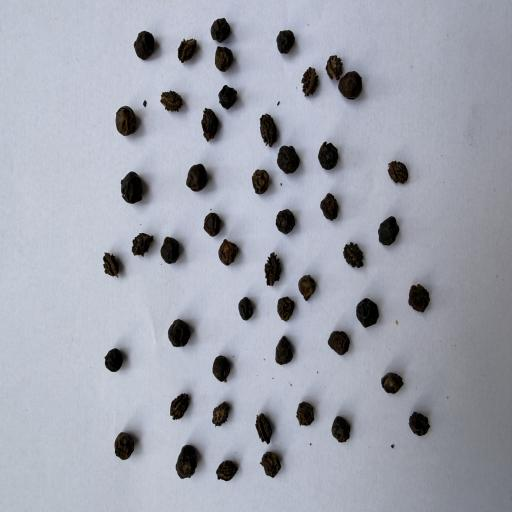Black_pepper: (110, 161, 155, 210), (400, 273, 442, 324), (327, 411, 364, 457), (375, 210, 408, 254), (374, 361, 409, 400), (209, 346, 240, 390), (178, 161, 218, 195), (312, 136, 344, 177), (258, 447, 290, 487), (96, 342, 130, 378), (205, 13, 244, 43), (163, 314, 197, 348), (352, 295, 386, 329), (214, 78, 248, 111), (266, 332, 294, 372), (216, 237, 244, 275), (114, 426, 138, 470), (194, 206, 228, 237), (175, 446, 202, 484), (114, 102, 140, 140), (291, 391, 317, 428), (157, 232, 187, 264), (318, 192, 347, 225), (338, 72, 366, 105), (276, 145, 302, 179), (274, 27, 301, 59), (250, 162, 272, 201), (328, 321, 351, 358), (273, 292, 297, 326), (133, 30, 158, 62), (272, 207, 300, 235), (237, 293, 258, 326), (215, 45, 238, 73), (297, 272, 316, 305)
papaya_seed: (397, 403, 436, 446), (384, 157, 417, 204), (246, 407, 280, 448), (166, 386, 198, 428), (155, 82, 189, 118), (260, 246, 284, 290), (341, 235, 370, 271), (210, 398, 234, 439), (130, 224, 156, 261), (175, 31, 202, 65), (257, 110, 280, 147), (98, 244, 121, 280), (298, 64, 321, 99), (200, 104, 219, 144), (216, 456, 240, 485), (324, 54, 344, 80)
